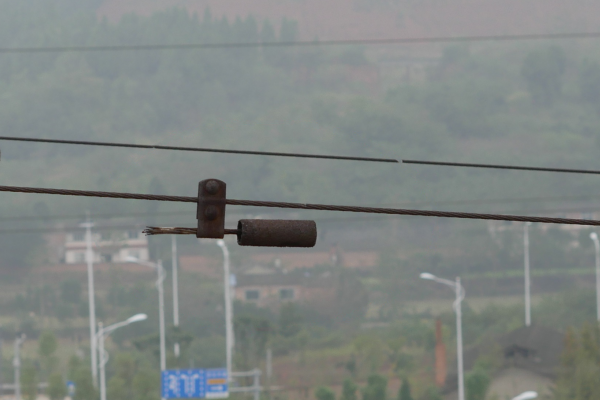damper_defect: (131, 175, 319, 250)
